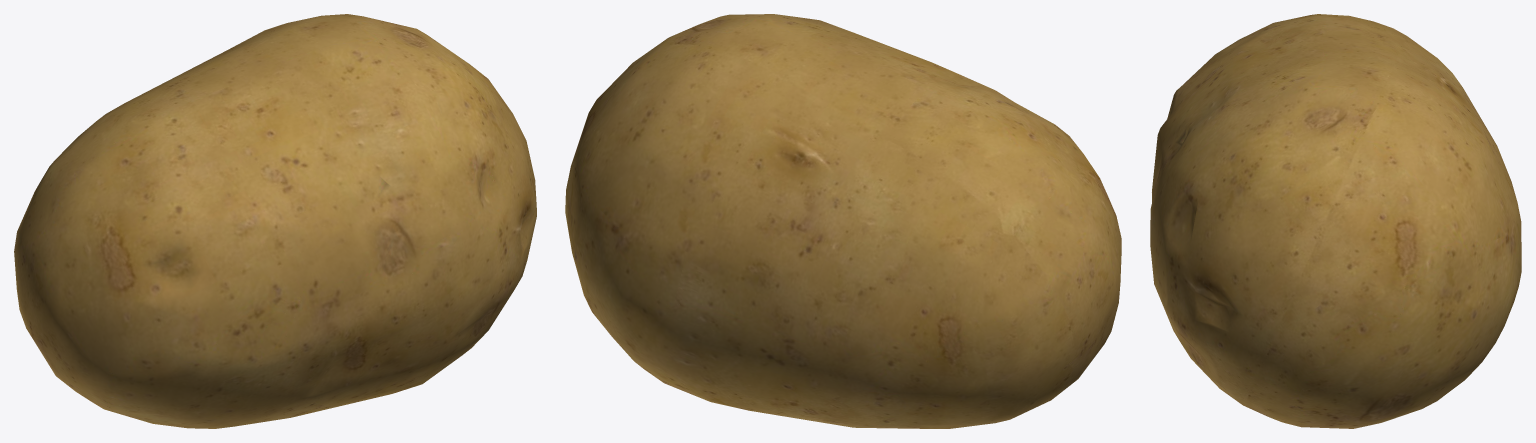
Rendered from 02_potato.glb.
3 views of the same model, side by side, from view 1: azimuth 30°, elevation 25°; view 2: azimuth 150°, elevation 25°; view 3: azimuth 270°, elevation 25° (orthographic). The views are drawn at different scales.
Visible parts, largest first — view 1: 02_potato; view 2: 02_potato; view 3: 02_potato.
Part boxes in pixels (<box>): 02_potato: <box>14,14,536,428</box>; 02_potato: <box>565,14,1121,428</box>; 02_potato: <box>1150,14,1521,428</box>.
Size of the model in its own units: 1 by 0.685 by 0.6826.
1 material, 1 textured.
